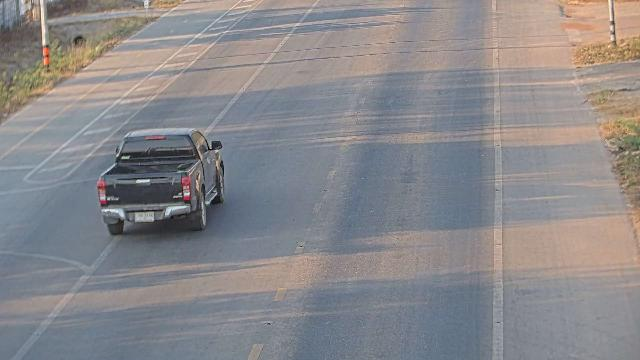pickup-truck: (96, 127, 226, 235)
